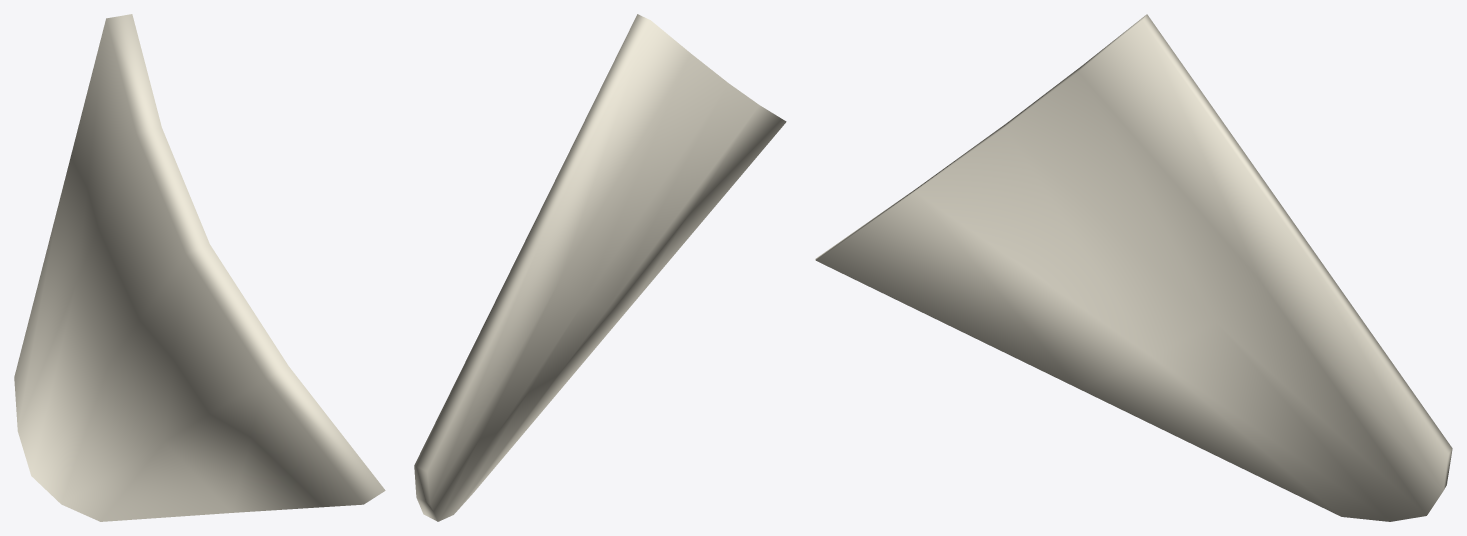
The picture shows the model from 3 angles, left to right: view 1: azimuth 30°, elevation 25°; view 2: azimuth 150°, elevation 25°; view 3: azimuth 270°, elevation 25°; orthographic projection. The views are drawn at different scales.
Visible parts, largest first — view 1: ZA_234fc3e2687a89b3; view 2: ZA_234fc3e2687a89b3; view 3: ZA_234fc3e2687a89b3.
Boxes of the visible parts, x1=… form: ZA_234fc3e2687a89b3: x1=14, y1=14, x2=385, y2=521; ZA_234fc3e2687a89b3: x1=414, y1=14, x2=786, y2=521; ZA_234fc3e2687a89b3: x1=815, y1=14, x2=1452, y2=521.
Size of the model in its own units: 0.00354 by 0.0129 by 0.0162.
